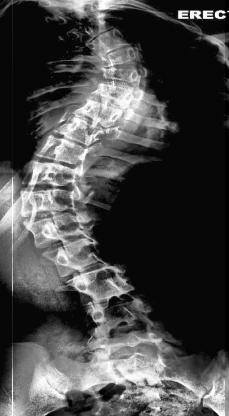Vertebrae: (87, 294, 160, 336), (69, 266, 137, 306), (24, 212, 86, 250), (42, 239, 102, 277), (19, 186, 82, 216), (52, 114, 106, 148), (34, 134, 86, 166), (73, 98, 123, 130), (22, 160, 76, 188), (92, 80, 138, 110), (87, 27, 131, 57), (96, 46, 142, 69), (102, 60, 143, 84)
